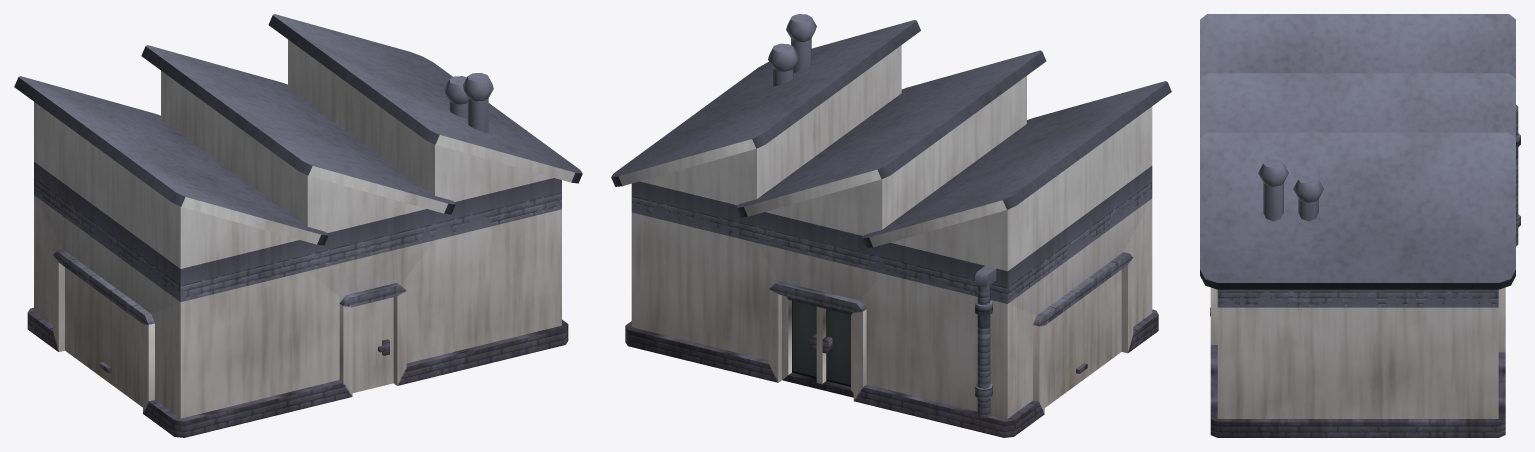
Rendered from building-k-white.glb.
3 views of the same model, side by side, from view 1: azimuth 30°, elevation 25°; view 2: azimuth 150°, elevation 25°; view 3: azimuth 270°, elevation 25° (orthographic). The views are drawn at different scales.
Parts seen in each view (by area): view 1: building-k; view 2: building-k; view 3: building-k.
Boxes of the visible parts, x1,y1,x2,y2 form: building-k: [14, 14, 582, 437]; building-k: [611, 14, 1171, 437]; building-k: [1200, 14, 1520, 437].
Size of the model in its own units: 1.3 by 0.7727 by 0.9136.
Materials: 1 (1 with a texture image).
